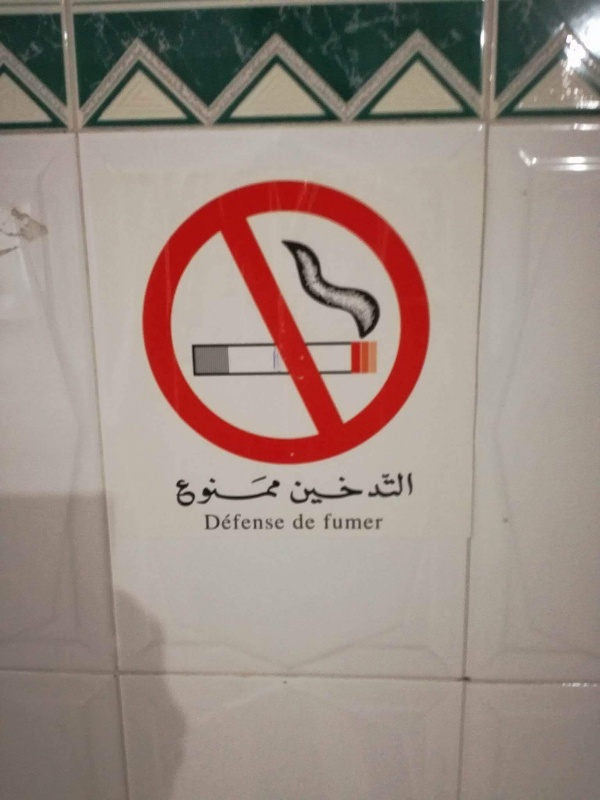text: (289, 472, 304, 505), (305, 472, 320, 505), (321, 472, 336, 505), (337, 472, 352, 505), (353, 472, 368, 505), (369, 472, 384, 505), (385, 472, 400, 505), (177, 476, 192, 507), (193, 476, 208, 507), (209, 476, 224, 507), (225, 476, 240, 507), (241, 476, 256, 507), (257, 476, 272, 507), (401, 472, 413, 505), (337, 513, 352, 531), (353, 513, 368, 531), (369, 513, 384, 531), (209, 514, 224, 531), (225, 514, 240, 531), (241, 514, 256, 531), (257, 514, 272, 531), (273, 476, 281, 507), (323, 513, 336, 531), (273, 514, 286, 531), (293, 514, 304, 531), (305, 514, 316, 531), (205, 514, 208, 531)
